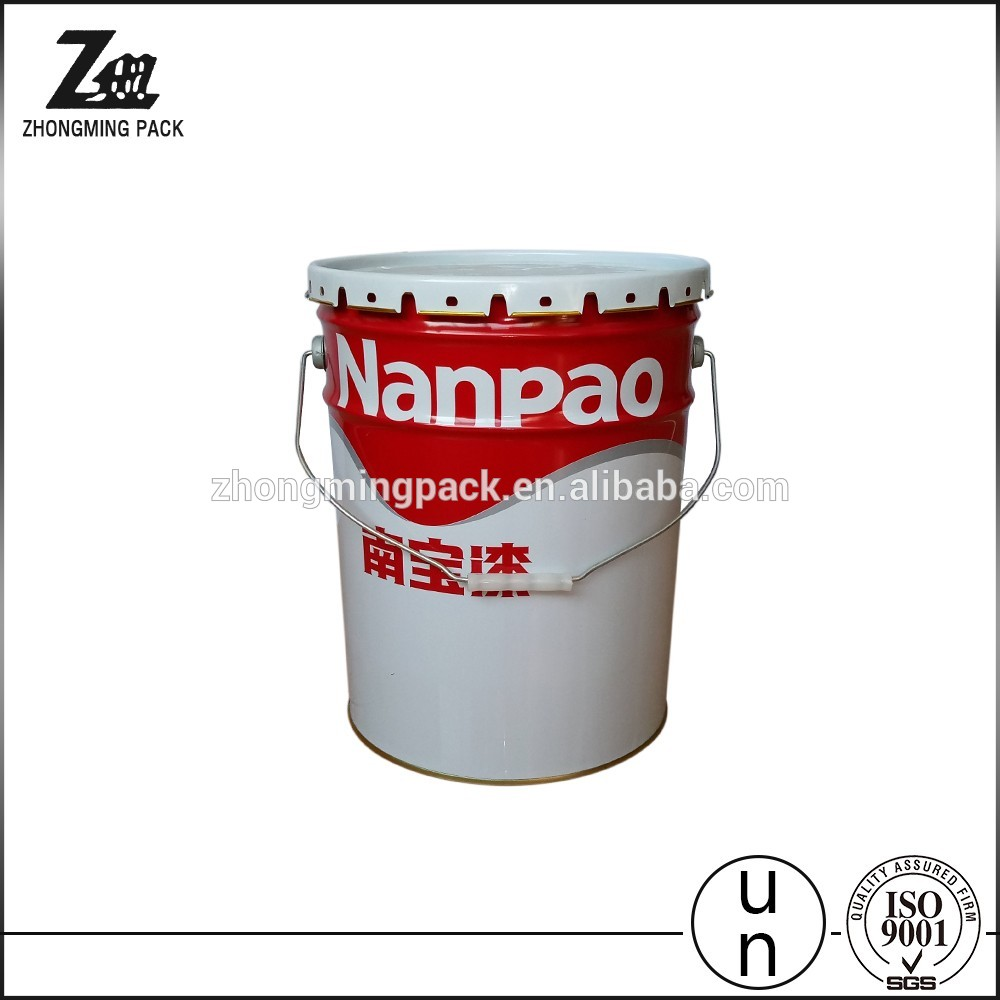metal: (293, 245, 723, 789)
